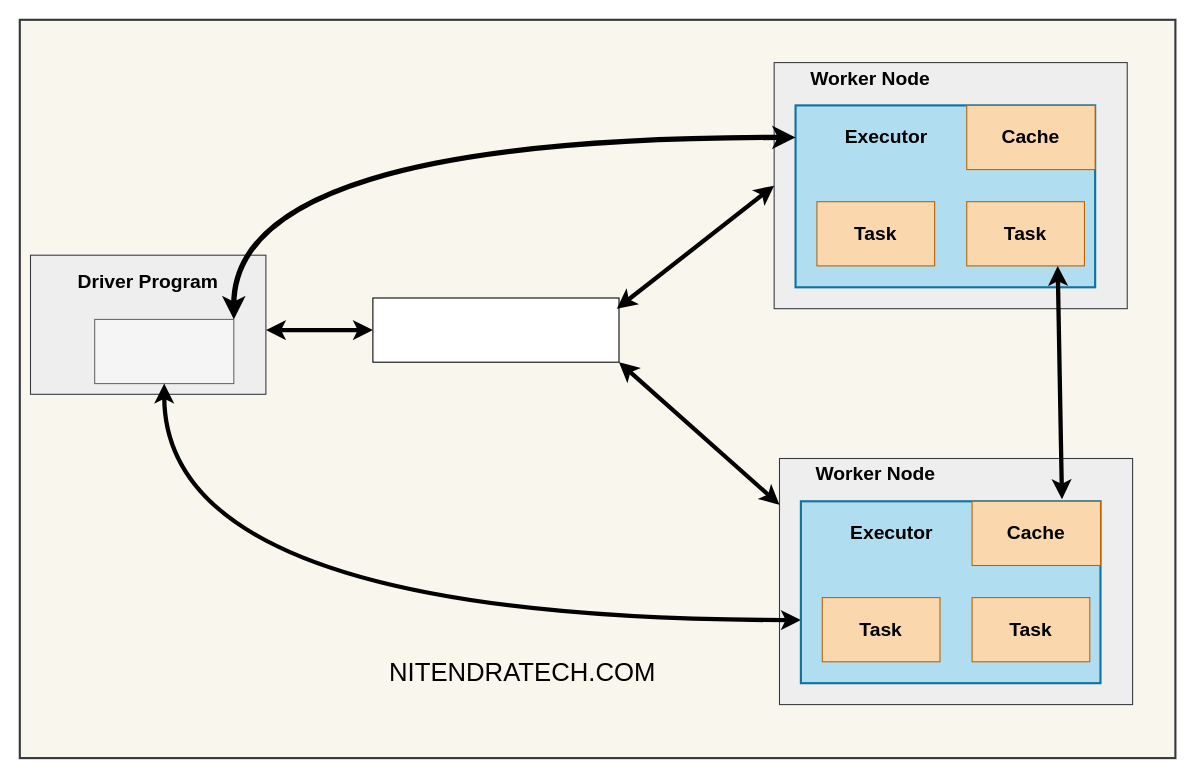
Some shapes in this 1194 by 777 pixel diagram are drawn without their labels. Each missing label, with the centre of its shape:
Cluster Manager: the point at 495,329
Spark Context: the point at 164,351
